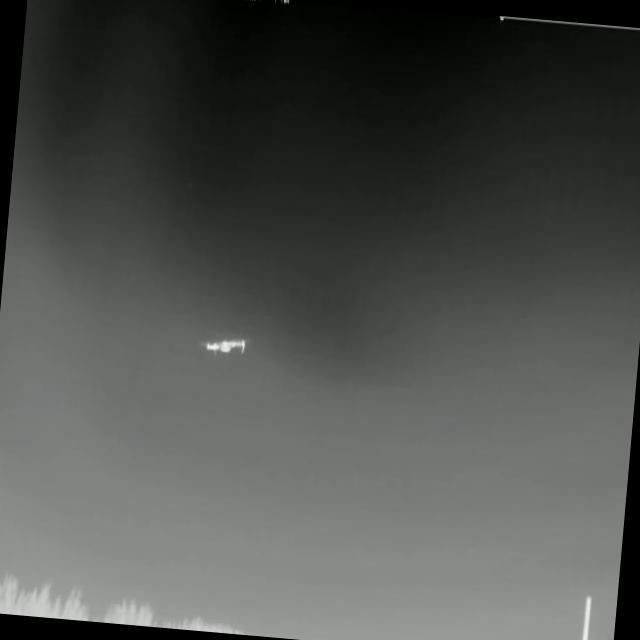DRONE: (192, 324, 254, 366)
